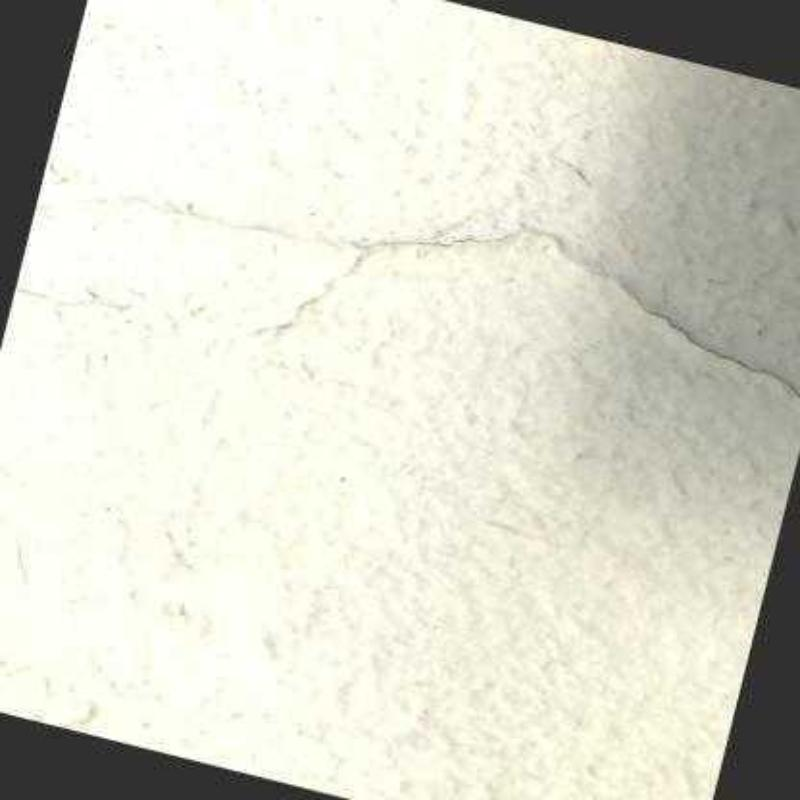pothole: (62, 189, 531, 255), (617, 282, 798, 407), (252, 254, 363, 335)
